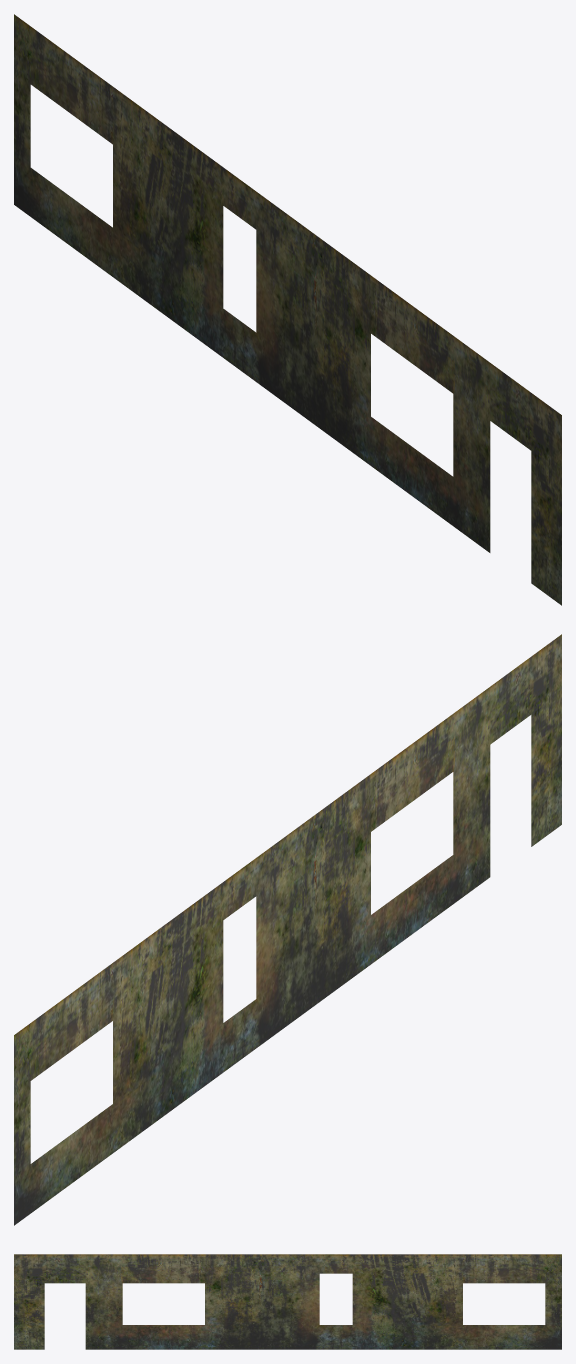
The model's file is Wall_07.FBX.
The picture shows the model from 3 angles, top to bottom: view 1: azimuth 30°, elevation 25°; view 2: azimuth 150°, elevation 25°; view 3: azimuth 270°, elevation 25°; orthographic projection. The views are drawn at different scales.
Parts seen in each view (by area): view 1: Wall_07; view 2: Wall_07; view 3: Wall_07.
Boxes of the visible parts, box(x1,y1,x2,y2) form: Wall_07: box(14, 14, 561, 605); Wall_07: box(14, 634, 561, 1225); Wall_07: box(14, 1254, 561, 1349).
Size of the model in its own units: 0.011 by 320 by 1667.
